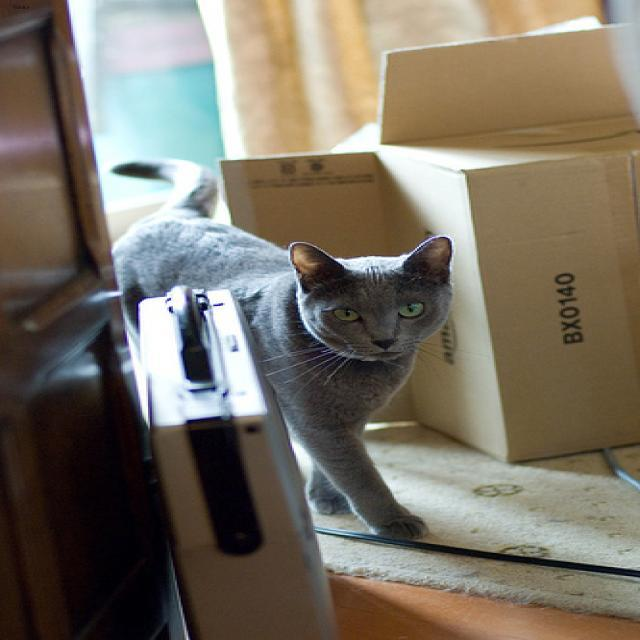Russian_Blue: (286, 235, 448, 359)
